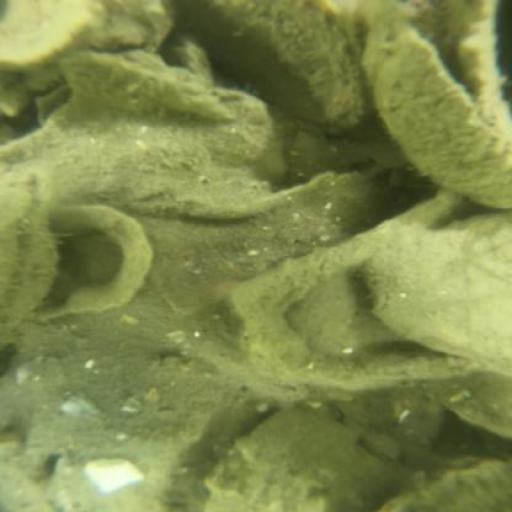Oyster-Closed: (10, 94, 279, 217), (369, 14, 512, 205), (179, 1, 362, 132), (368, 216, 509, 374), (208, 407, 380, 507), (64, 51, 232, 118), (45, 441, 178, 512), (433, 372, 512, 443)
Oyster-Open: (3, 172, 56, 342), (381, 460, 512, 512)
